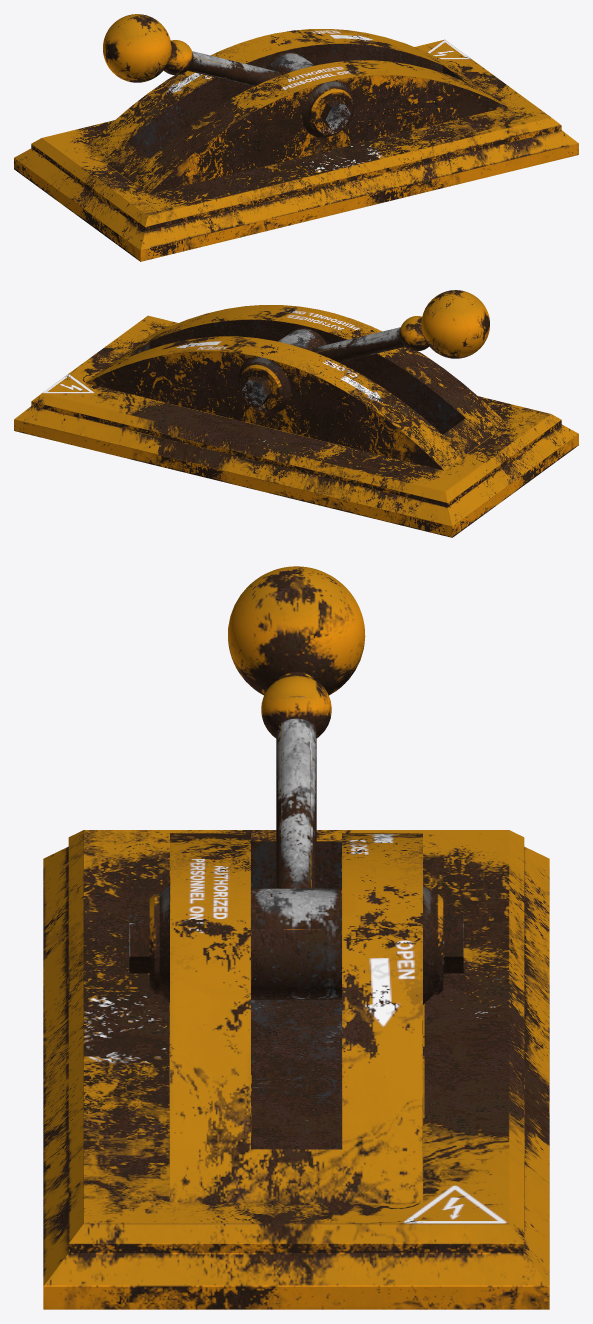
Rendered from lever.glb.
3 renders of one model, top to bottom at view 1: azimuth 30°, elevation 25°; view 2: azimuth 150°, elevation 25°; view 3: azimuth 270°, elevation 25°, orthographic. The views are drawn at different scales.
Parts seen in each view (by area): view 1: body, lever; view 2: body, lever; view 3: body, lever.
Boxes of the visible parts, bbox=[...] form: body: bbox=[14, 29, 578, 261]; lever: bbox=[103, 14, 314, 86]; body: bbox=[14, 305, 578, 537]; lever: bbox=[278, 290, 489, 362]; body: bbox=[43, 830, 549, 1309]; lever: bbox=[228, 566, 365, 999].
Size of the model in its own units: 25.4 by 10.17 by 12.7.
1 material, 1 textured.
